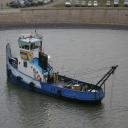tugboat: (6, 32, 120, 108)
